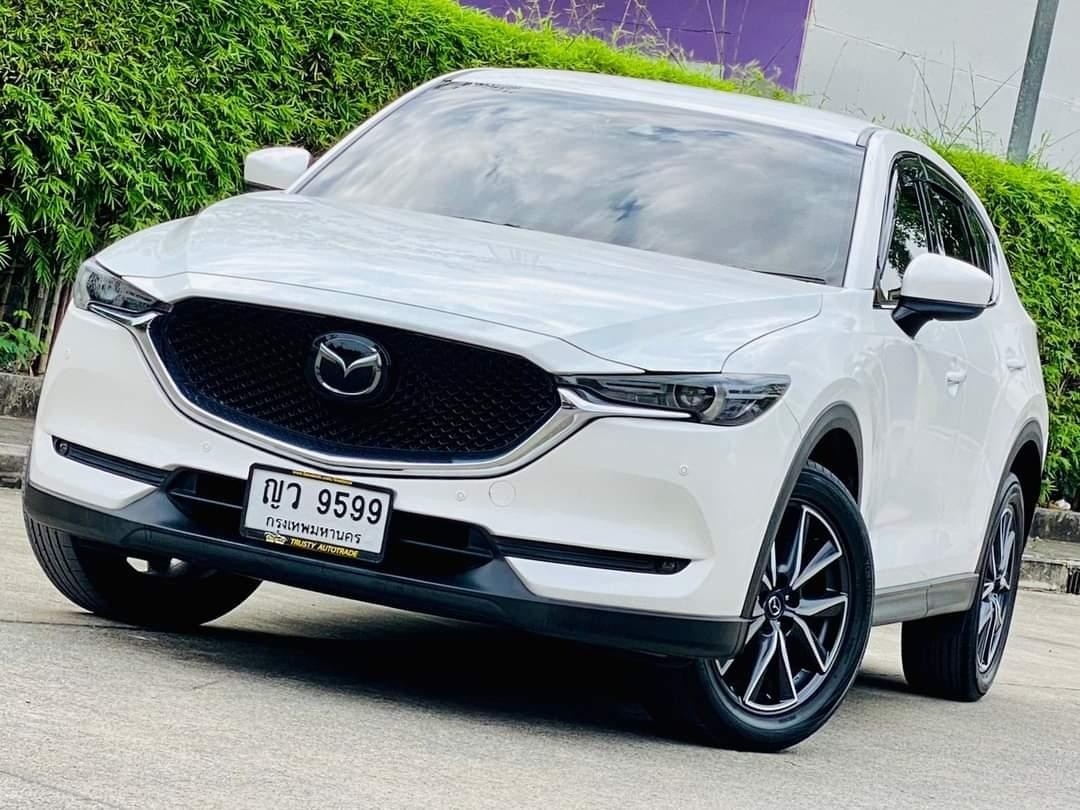license-plate: (235, 462, 398, 570)
